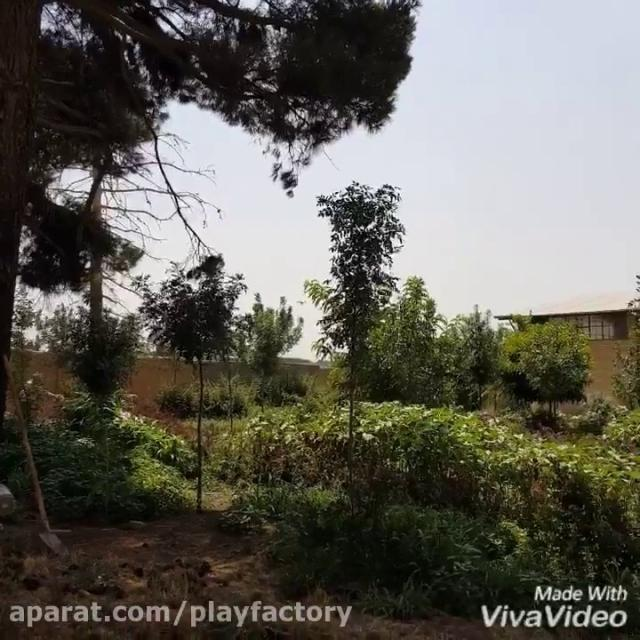drone: (294, 296, 307, 307)
